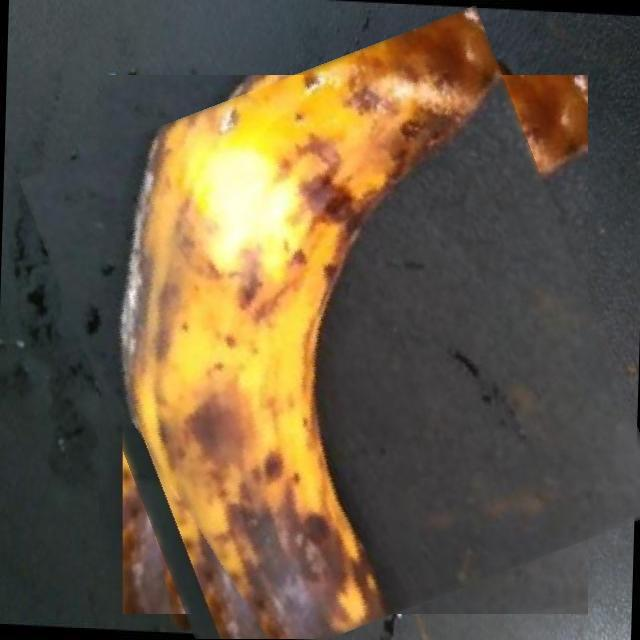Execivamente Madura: (59, 40, 628, 640)
